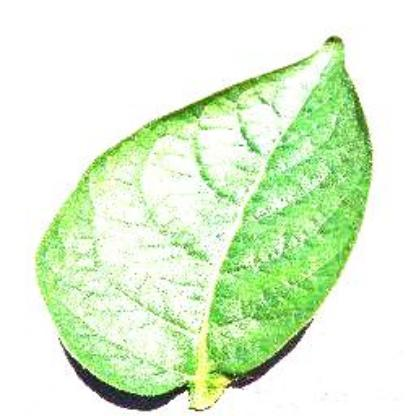Healthy-plant: (33, 34, 373, 410)
